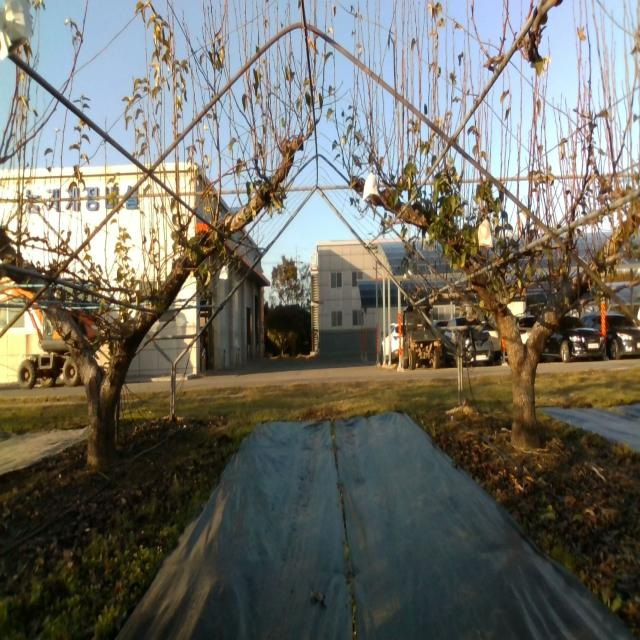pearbags: (0, 0, 31, 61), (478, 215, 494, 252), (362, 172, 380, 200)
